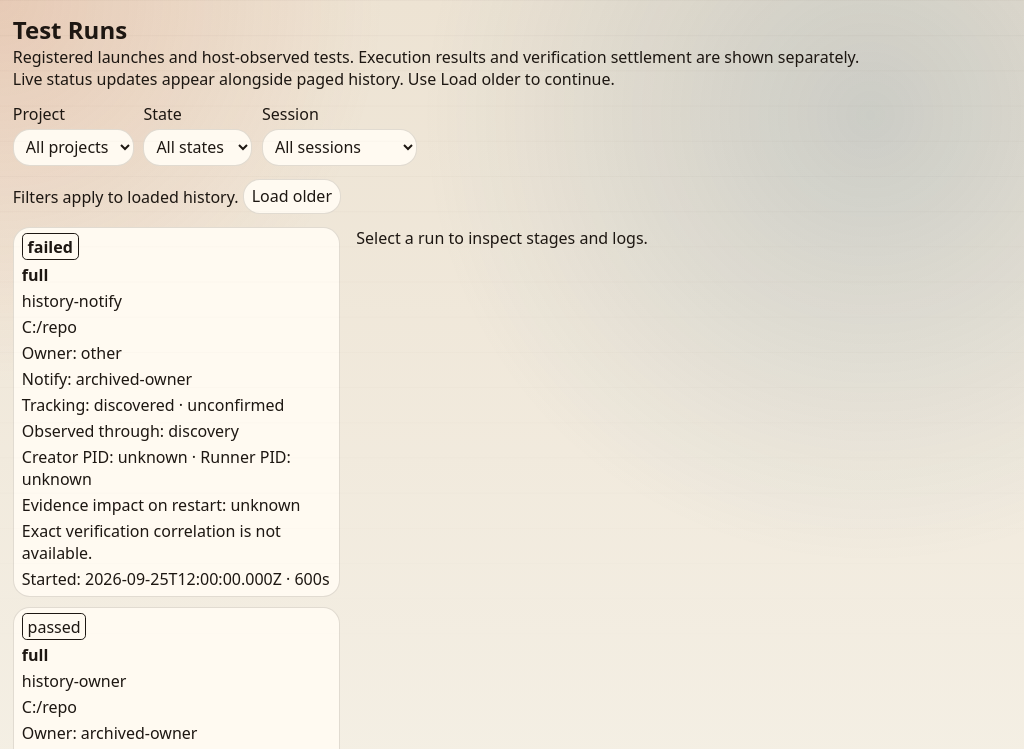
Scenario: filters loaded history by terminal state and either session role without hiding the page continuation
This screenshot has width=1024, height=749.
Expected: the text "history-owner" is shown, [22, 670, 126, 692]
Select "archived-owner" in the dropdown labelled "Session": (340, 147) [262, 129, 417, 166]
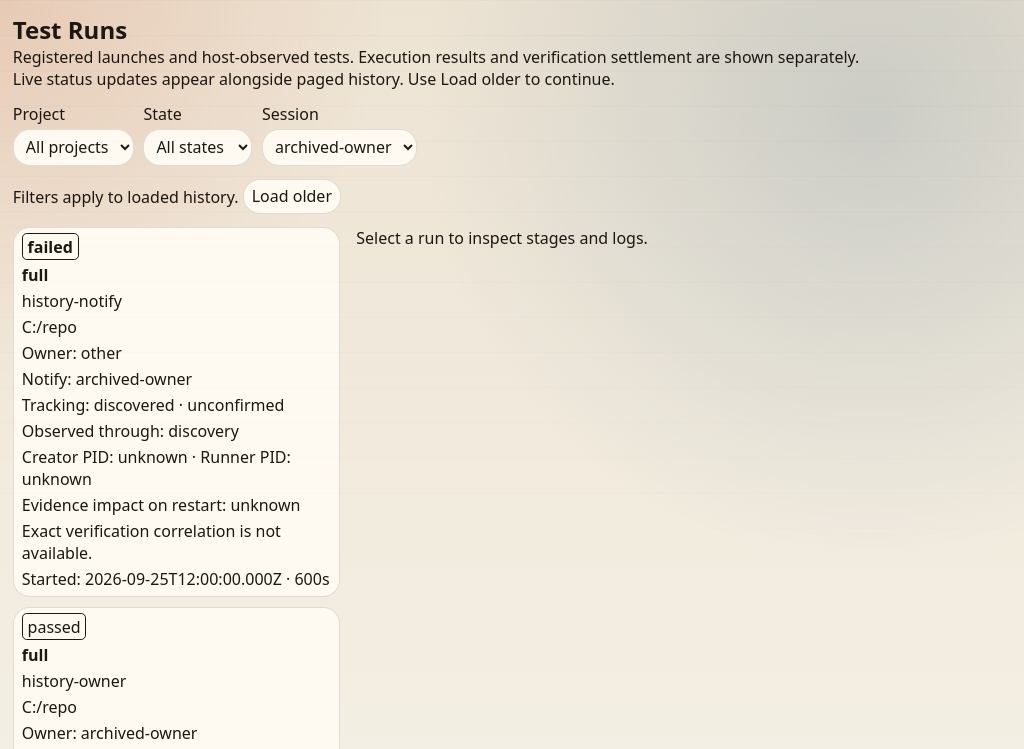
Expected: the text "history-notify" is shown, [22, 290, 122, 312]
Select "failed" in the dropdown labelled "State": (198, 147) [143, 129, 252, 166]
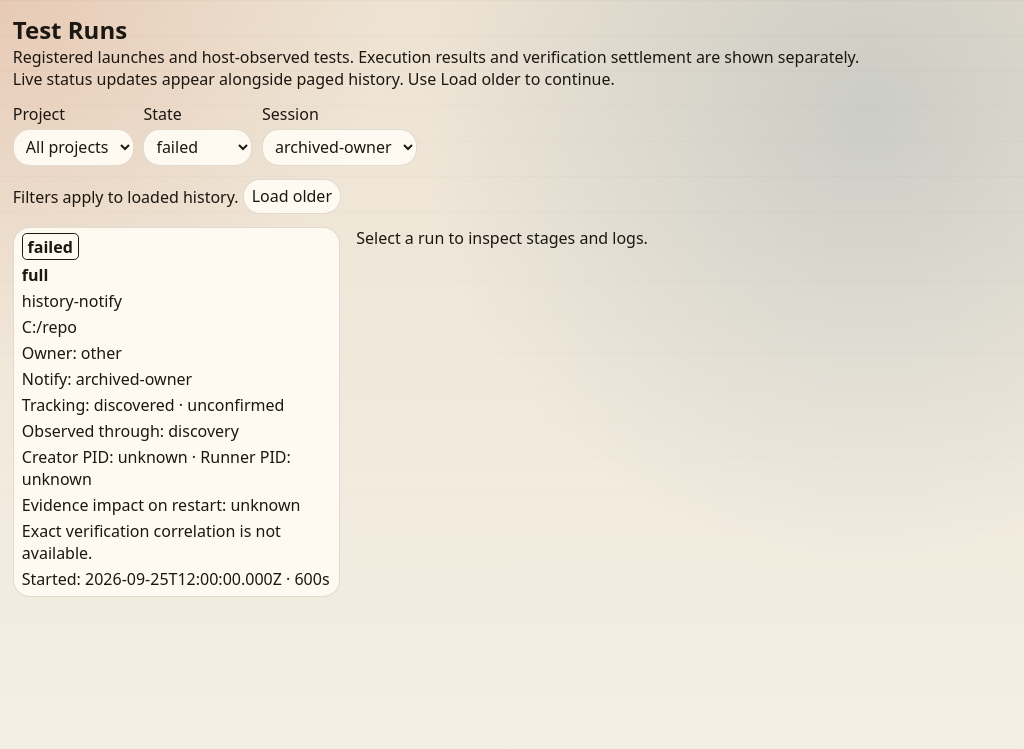
Expected: the text "history-notify" is shown, [22, 290, 122, 312]
Now the button "history-owner" is gone
